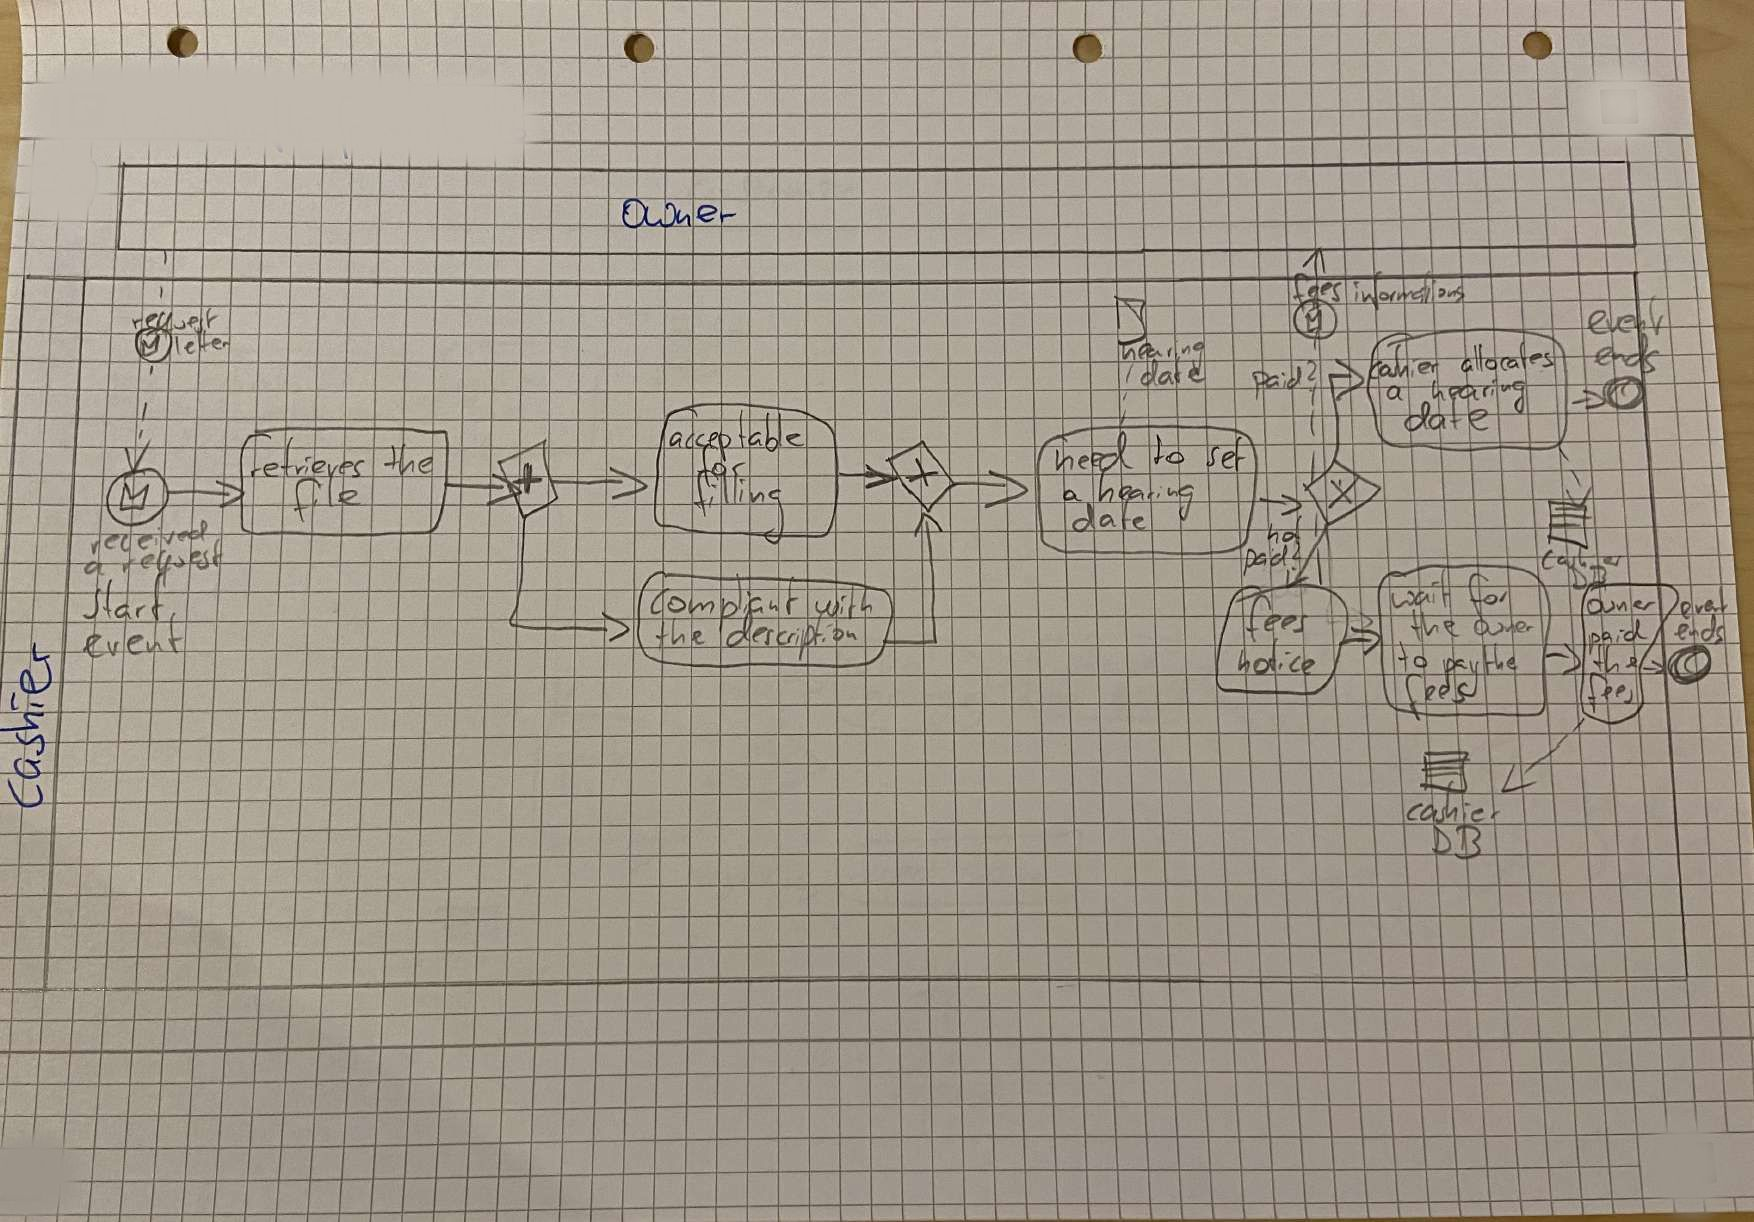Compliant: (646, 570, 804, 636)
DB: (1426, 821, 1487, 865), (1565, 561, 1611, 594)
Owner: (617, 196, 742, 235)
a: (80, 554, 109, 582), (1382, 382, 1409, 406), (1060, 486, 1086, 506)
acceptable: (664, 408, 809, 466)
allocates: (1455, 338, 1557, 376)
cahier: (1363, 341, 1443, 382)
casher: (1535, 538, 1631, 574)
cashier: (3, 634, 60, 818), (1402, 777, 1505, 833)
date: (1402, 394, 1495, 436), (1068, 496, 1152, 537), (1136, 354, 1209, 393)
description: (721, 606, 862, 664)
ends: (1591, 330, 1665, 380), (1670, 610, 1730, 649)
event: (79, 609, 187, 664), (1583, 292, 1671, 340), (1677, 584, 1729, 624)
fees: (1401, 672, 1482, 725), (1240, 592, 1314, 648), (1583, 668, 1639, 718), (1288, 271, 1347, 314)
file: (287, 472, 368, 528)
filling: (688, 466, 790, 549)
for: (693, 440, 752, 493), (1463, 569, 1515, 625)
hearing: (1092, 466, 1200, 525), (1427, 376, 1531, 418), (1118, 334, 1210, 374)
informations: (1349, 267, 1469, 316)
letter: (171, 328, 235, 358)
need: (1052, 429, 1138, 478)
not: (1262, 514, 1309, 550)
notice: (1233, 636, 1319, 682)
owner: (1581, 594, 1659, 620), (1470, 614, 1537, 640)
paid: (1586, 616, 1651, 660)
paid?: (1248, 356, 1322, 405), (1238, 536, 1305, 581)
pay: (1439, 654, 1482, 702)
received: (85, 517, 212, 560)
request: (116, 534, 227, 593), (129, 304, 223, 341)
retrieves: (245, 434, 371, 482)
set: (1200, 432, 1252, 477)
start: (79, 574, 168, 628)
the: (380, 438, 438, 482), (1405, 606, 1463, 646), (650, 614, 710, 653), (1591, 641, 1643, 680), (1475, 641, 1523, 680)
to: (1148, 432, 1192, 470), (1391, 640, 1433, 676)
wait: (1387, 566, 1455, 614)
with: (810, 582, 880, 624)
